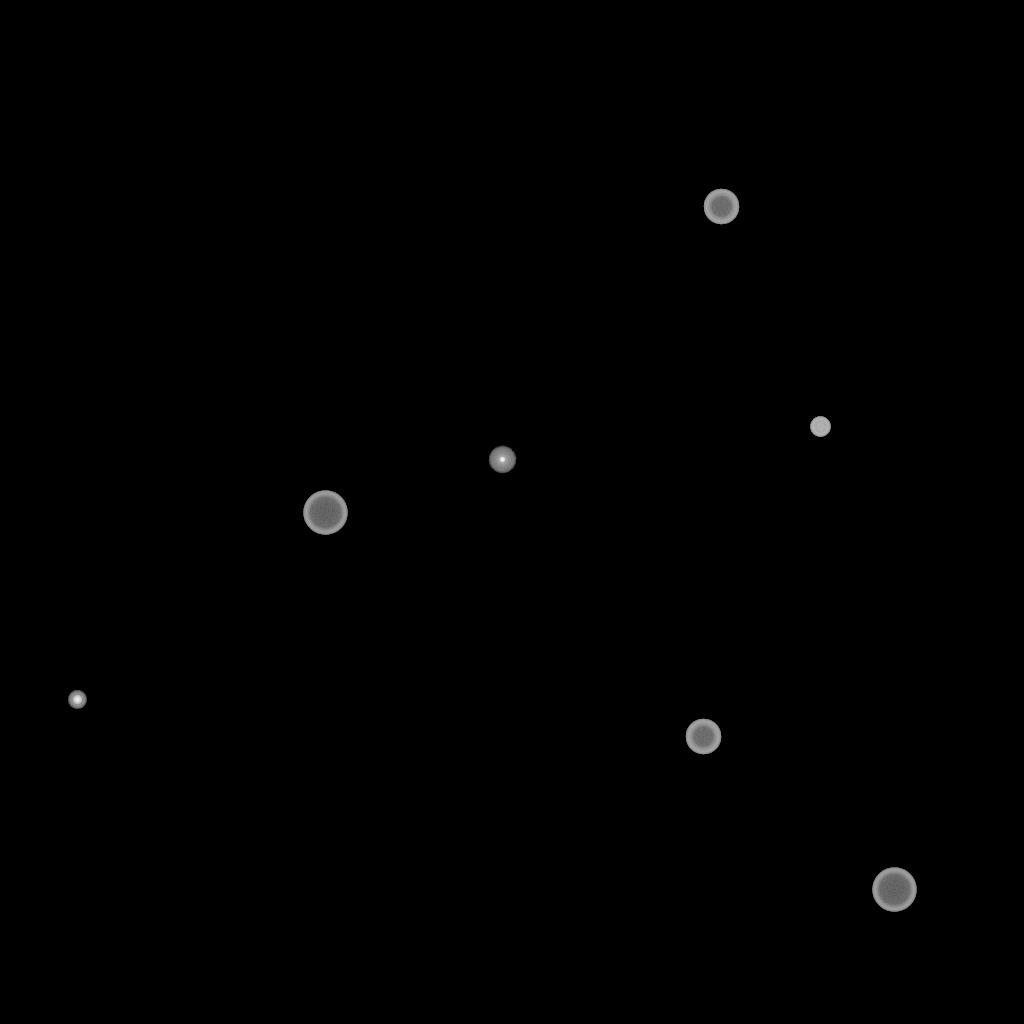depth:-10: (488, 446, 516, 474)
depth:-20: (68, 691, 86, 709)
depth:-40: (810, 417, 830, 437)
depth:-60: (685, 719, 721, 755), (703, 189, 739, 225)
depth:-70: (303, 491, 347, 535), (872, 868, 916, 912)
